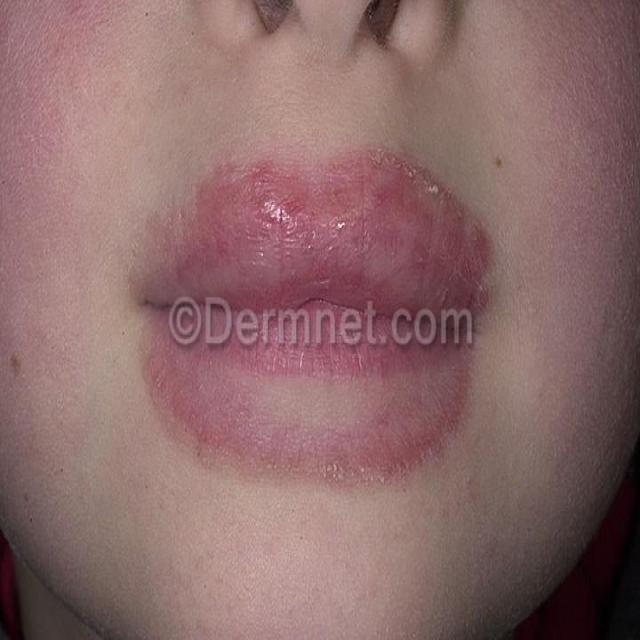Eczema: (130, 146, 491, 490)
